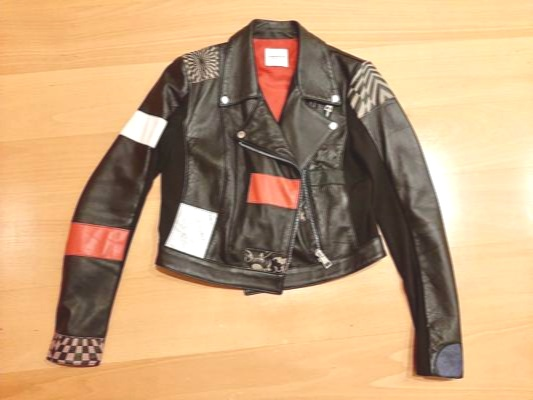Blazer: (33, 23, 477, 393)
